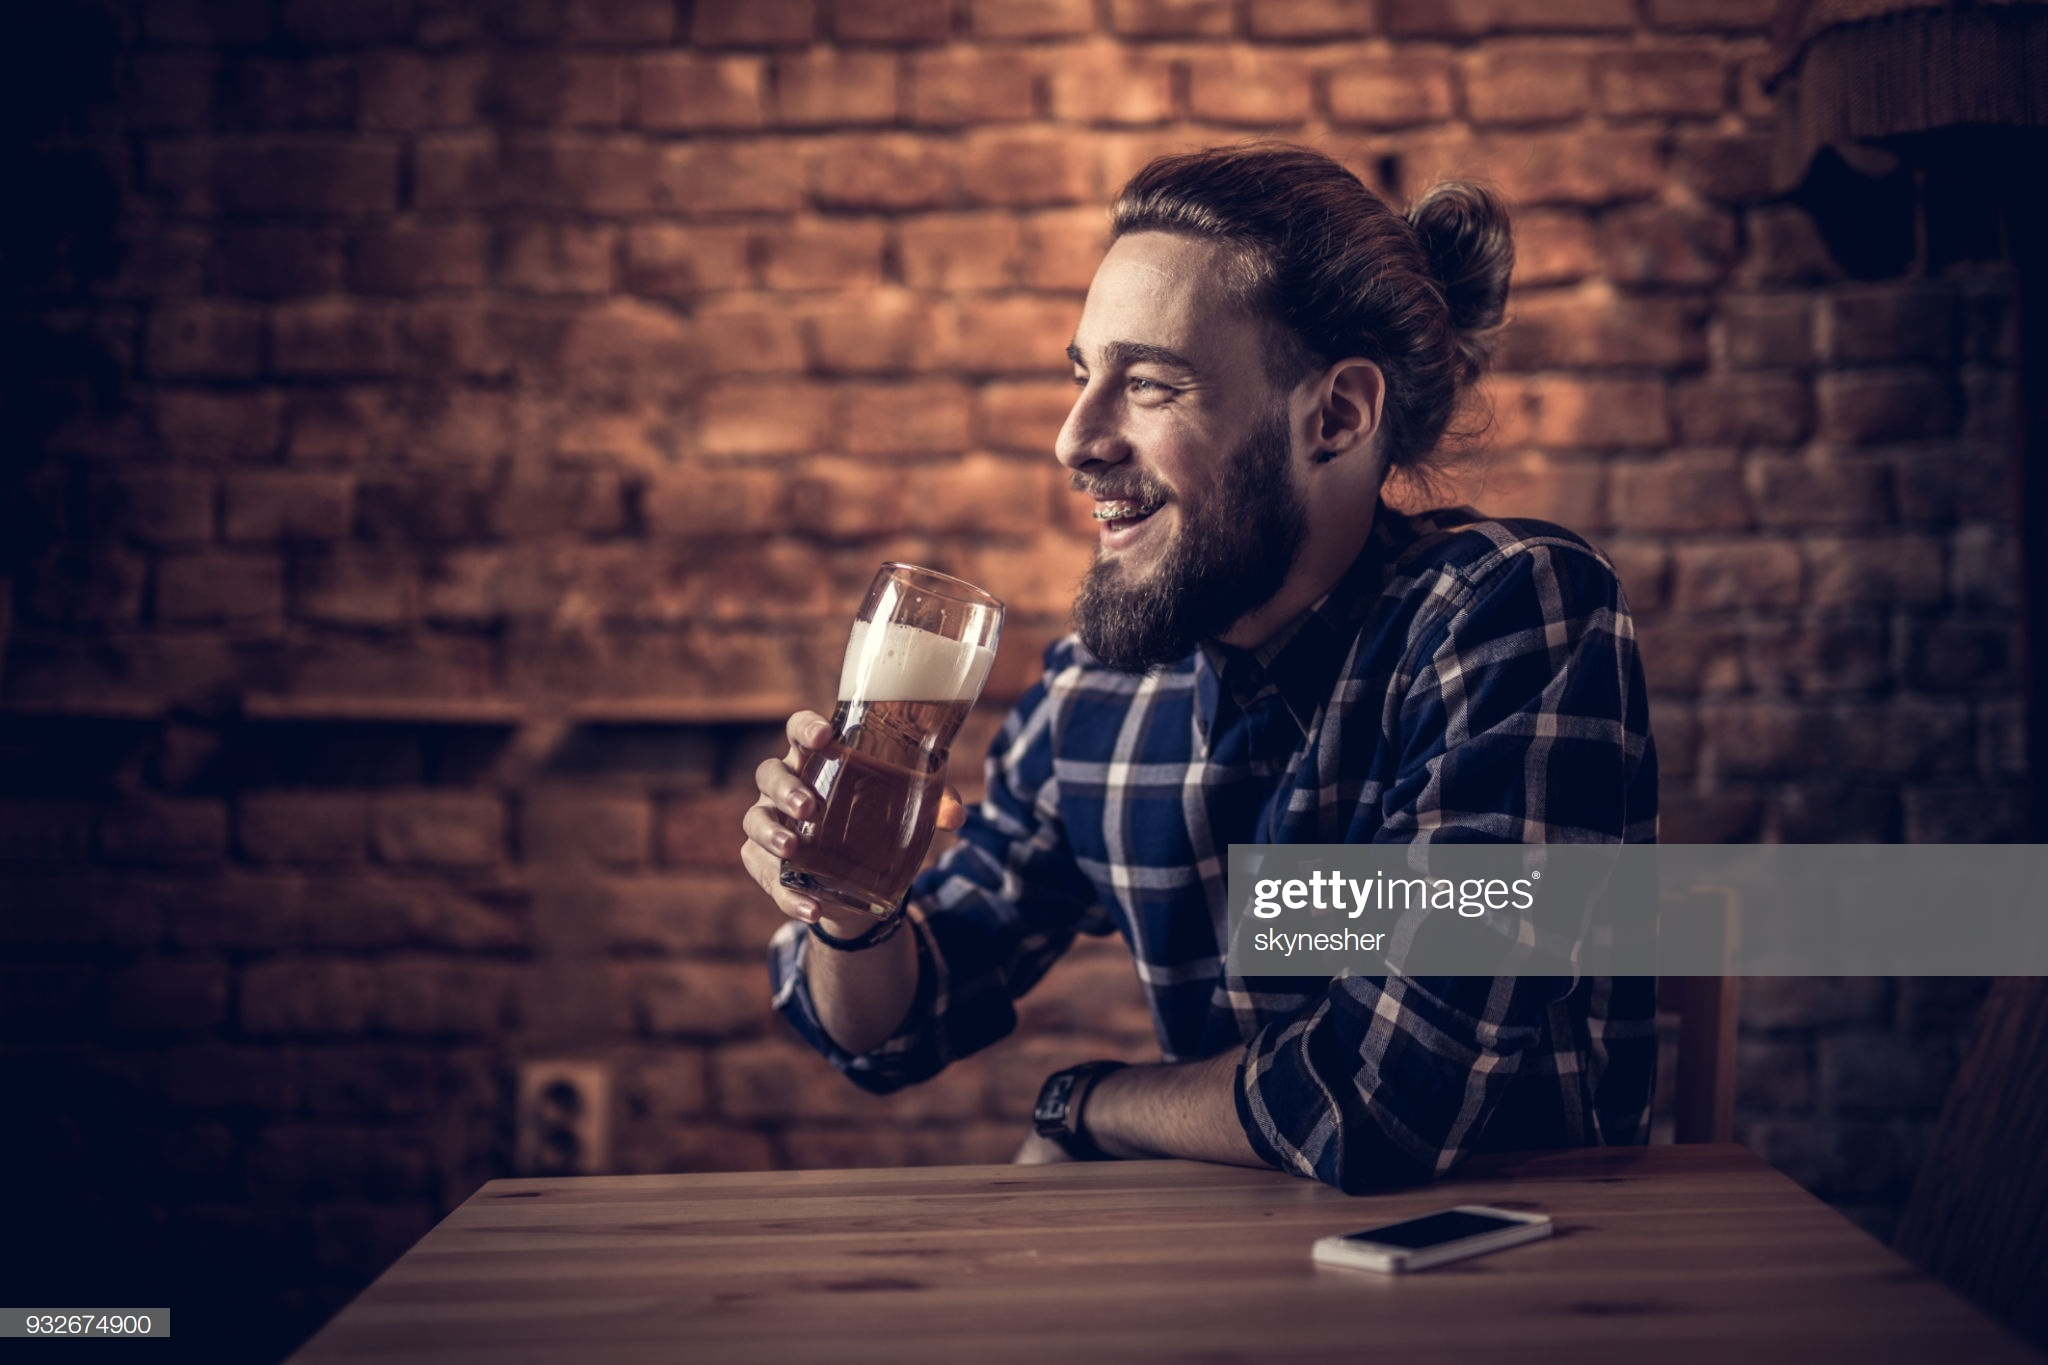glassBeer: (799, 571, 1002, 877)
